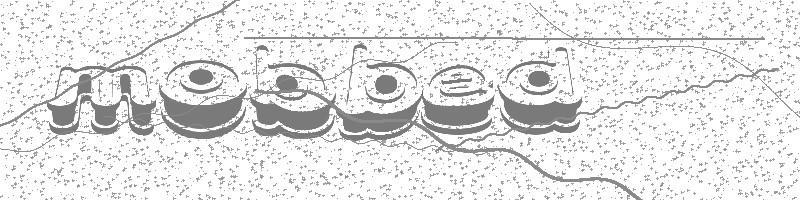b: (338, 42, 421, 143), (251, 41, 336, 139)
d: (498, 45, 583, 138)
e: (419, 61, 496, 137)
m: (45, 62, 158, 135)
o: (157, 57, 250, 142)
